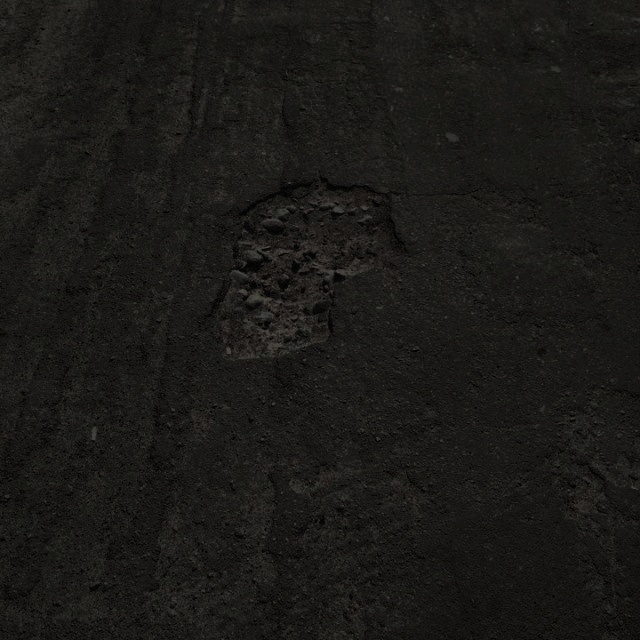Pothole: (202, 172, 412, 368)
